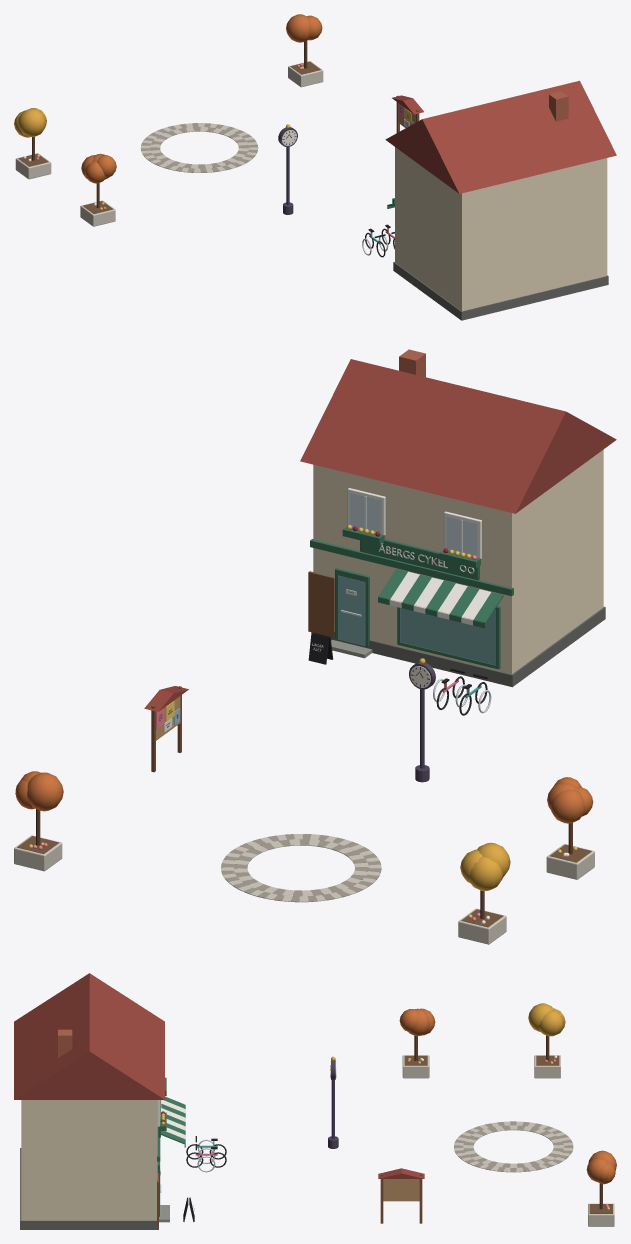
The model's file is square-props.glb.
3 views of the same model, one above another, from view 1: azimuth 30°, elevation 25°; view 2: azimuth 150°, elevation 25°; view 3: azimuth 270°, elevation 25° (orthographic). The views are drawn at different scales.
Visible parts, largest first — view 1: Square_shop_wall, Square_roof_red, Square_stone_light, Square_stone_dark, Square_leaf_rust, Square_stone_ring, Square_leaf_gold, Square_soil, Square_lamp, Square_brick; view 2: Square_roof_red, Square_shop_wall, Square_shop_green, Square_stone_light, Square_white, Square_glass, Square_stone_dark, Square_leaf_rust, Square_stone_ring, Square_awning_a, Square_wood_dark, Square_glass.002 (+6 smaller); view 3: Square_shop_wall, Square_roof_red, Square_stone_light, Square_stone_ring, Square_leaf_rust, Square_stone_dark, Square_leaf_gold, Square_cork, Square_soil, Square_awning_a, Square_wood_dark, Square_lamp (+3 smaller).
Part boxes in pixels (x1,y1,x2,y2): Square_shop_wall: (395, 147, 607, 311); Square_roof_red: (385, 80, 616, 193); Square_stone_light: (15, 61, 323, 226); Square_stone_dark: (393, 262, 608, 320); Square_leaf_rust: (81, 14, 322, 183); Square_stone_ring: (140, 123, 257, 172); Square_leaf_gold: (14, 108, 46, 137); Square_soil: (18, 61, 320, 213); Square_lamp: (278, 107, 409, 214); Square_brick: (549, 91, 568, 121); Square_roof_red: (144, 359, 616, 711); Square_shop_wall: (313, 449, 603, 674); Square_shop_green: (310, 526, 513, 669); Square_stone_light: (14, 834, 594, 944); Square_white: (164, 488, 569, 924); Square_glass: (400, 608, 495, 665); Square_stone_dark: (311, 606, 605, 687); Square_leaf_rust: (15, 771, 593, 823); Square_stone_ring: (221, 834, 381, 902); Square_awning_a: (378, 569, 503, 628); Square_wood_dark: (151, 571, 334, 772); Square_glass.002: (350, 492, 477, 556); Square_shop_wall: (21, 1100, 157, 1220); Square_roof_red: (14, 973, 424, 1178); Square_stone_light: (402, 1055, 614, 1226); Square_stone_ring: (454, 1121, 573, 1172); Square_leaf_rust: (399, 1008, 616, 1184); Square_stone_dark: (20, 1148, 158, 1229); Square_leaf_gold: (528, 1003, 565, 1036); Square_cork: (383, 1179, 419, 1201); Square_soil: (404, 1055, 612, 1213); Square_awning_a: (161, 1096, 185, 1147); Square_wood_dark: (157, 1173, 422, 1226); Square_lamp: (328, 1060, 338, 1148).
Bounding box in the file's own units: 16.28 × 8.33 × 24.74.
